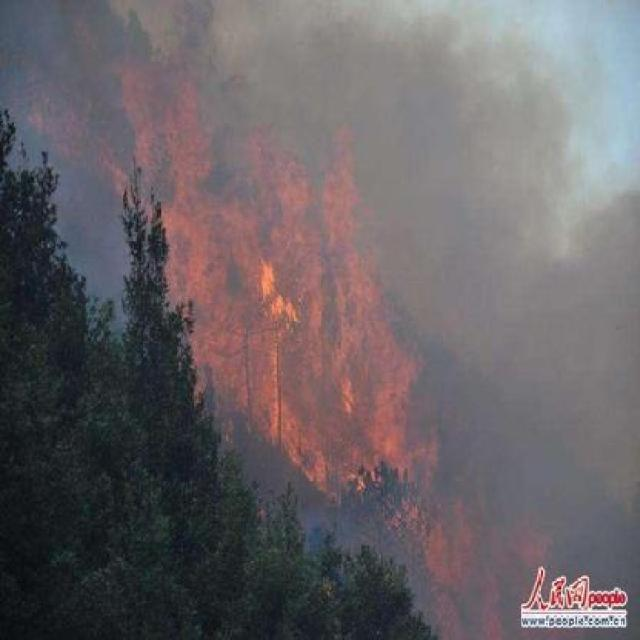Fire: (110, 35, 410, 529), (414, 541, 551, 629)
Smoke: (412, 4, 640, 530), (23, 2, 112, 205)
